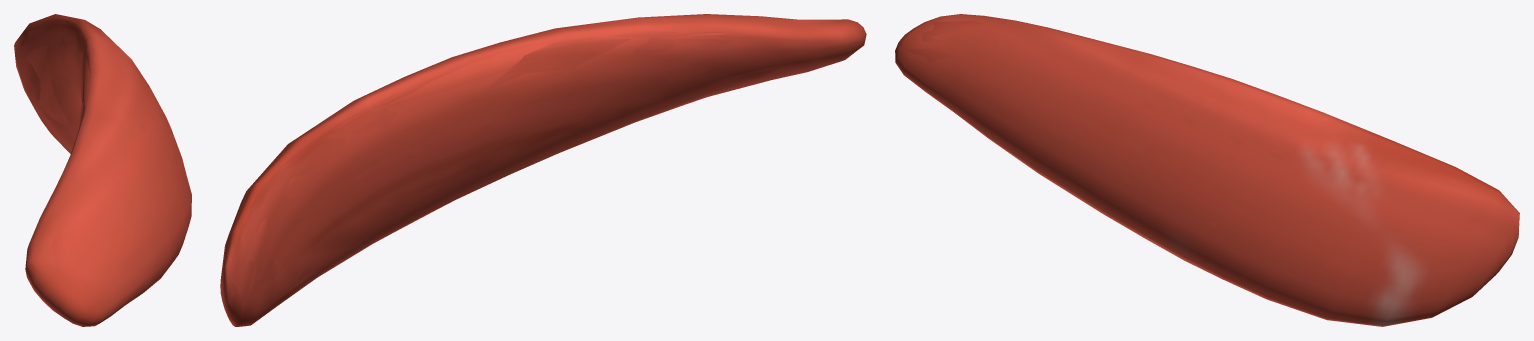
File: L Omotransversarius.fbx
3 renders of one model, left to right at view 1: azimuth 30°, elevation 25°; view 2: azimuth 150°, elevation 25°; view 3: azimuth 270°, elevation 25°, orthographic. The views are drawn at different scales.
Parts seen in each view (by area): view 1: L Omotransversarius, L Omotransversarius high, L Omotransversarius low; view 2: L Omotransversarius, L Omotransversarius low, L Omotransversarius high; view 3: L Omotransversarius, L Omotransversarius high, L Omotransversarius low.
Boxes of the visible parts, x1=… form: L Omotransversarius: x1=14, y1=14, x2=191, y2=326; L Omotransversarius high: x1=17, y1=17, x2=186, y2=315; L Omotransversarius low: x1=24, y1=32, x2=107, y2=298; L Omotransversarius: x1=220, y1=14, x2=866, y2=326; L Omotransversarius low: x1=241, y1=19, x2=840, y2=315; L Omotransversarius high: x1=222, y1=16, x2=852, y2=321; L Omotransversarius: x1=895, y1=14, x2=1519, y2=326; L Omotransversarius high: x1=897, y1=18, x2=1515, y2=319; L Omotransversarius low: x1=906, y1=21, x2=1006, y2=62.
Size of the model in its own units: 9.01 by 5.37 by 15.29.
